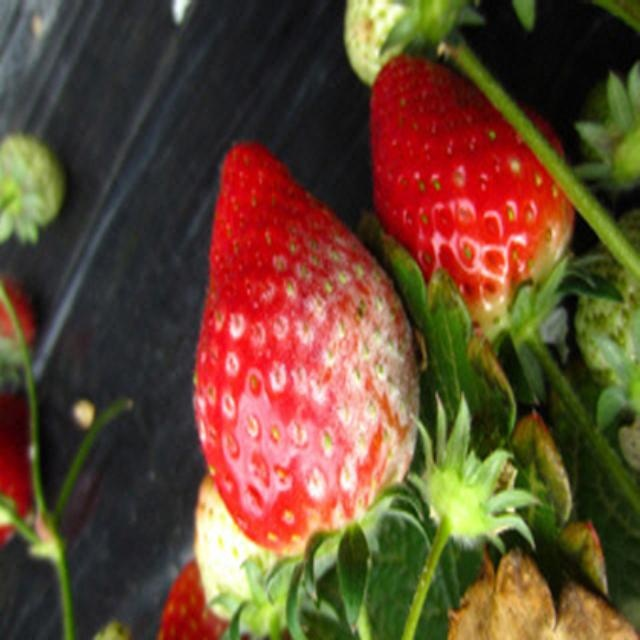Powdery Mildew Fruit: (192, 215, 424, 557)
